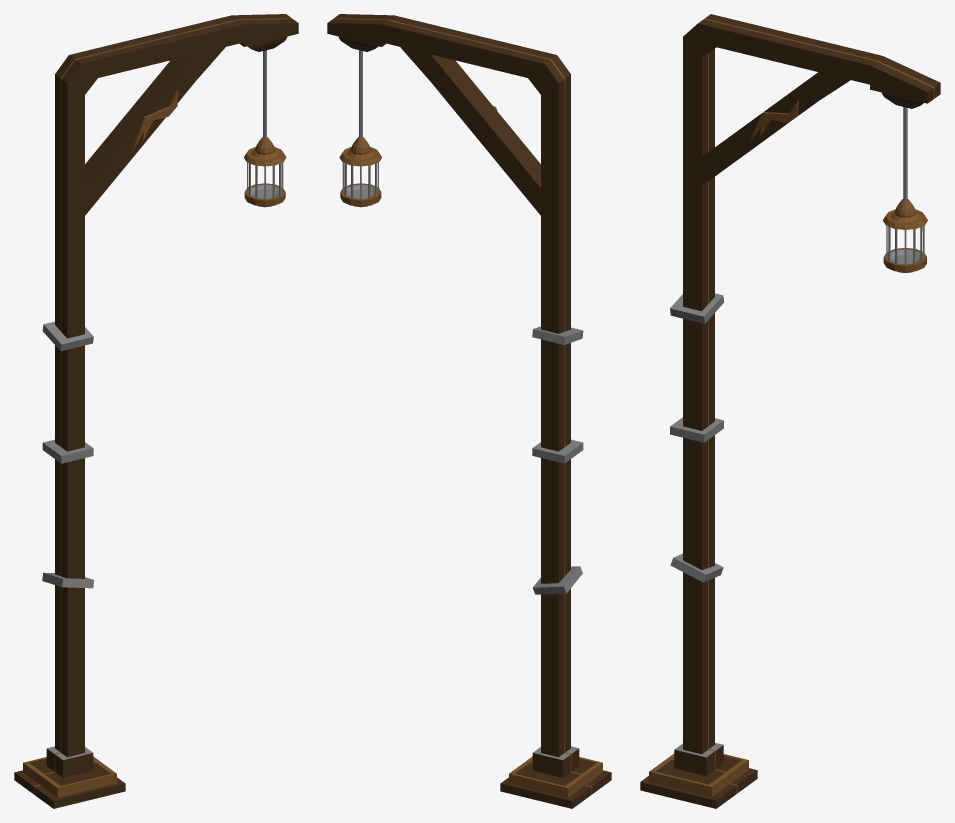
File: Lantern.fbx
3 views of the same model, side by side, from view 1: azimuth 30°, elevation 25°; view 2: azimuth 150°, elevation 25°; view 3: azimuth 330°, elevation 25° (orthographic). The views are drawn at different scales.
Visible parts, largest first — view 1: Lantern; view 2: Lantern; view 3: Lantern.
Boxes of the visible parts, left/top/right/bottom form: Lantern: left=14, top=14, right=298, bottom=808; Lantern: left=327, top=14, right=611, bottom=808; Lantern: left=640, top=14, right=940, bottom=808.
Size of the model in its own units: 1.44 by 3.87 by 0.3793.
